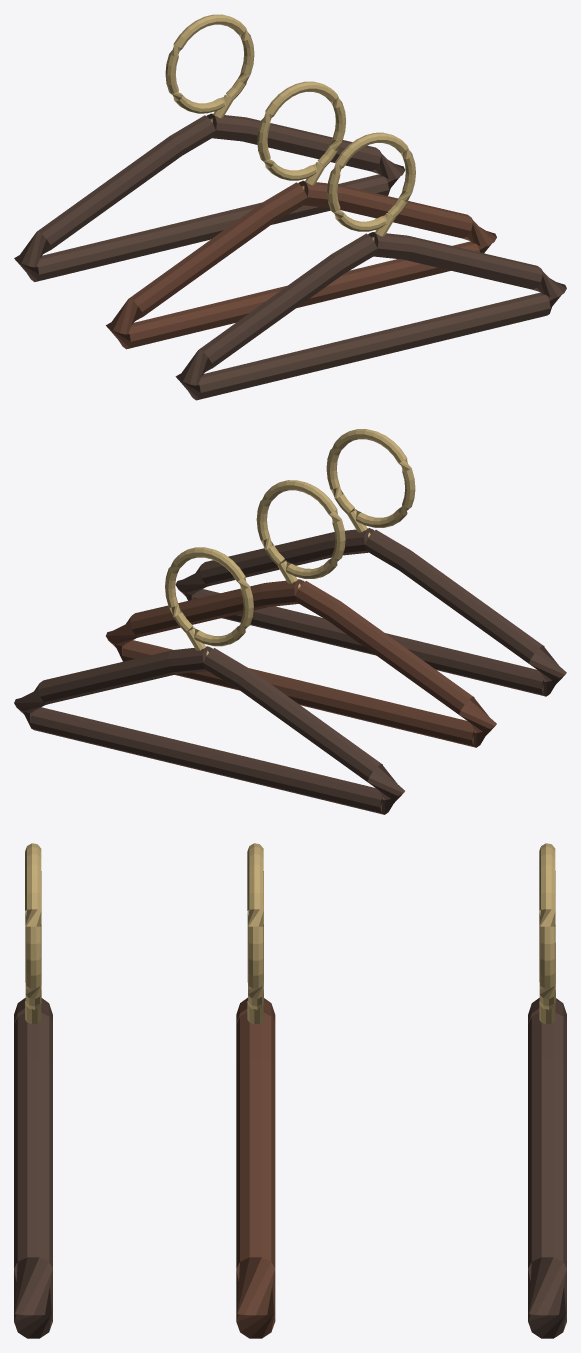
Rendered from handles.glb.
3 renders of one model, top to bottom at view 1: azimuth 30°, elevation 25°; view 2: azimuth 150°, elevation 25°; view 3: azimuth 270°, elevation 25°, orthographic. The views are drawn at different scales.
Parts seen in each view (by area): view 1: handles; view 2: handles; view 3: handles.
Part boxes in pixels (x1,y1,x2,y2): handles: [14, 14, 566, 400]; handles: [14, 429, 566, 814]; handles: [14, 843, 566, 1338].
Bounding box in the file's own units: 0.513 × 0.2809 × 0.398.
